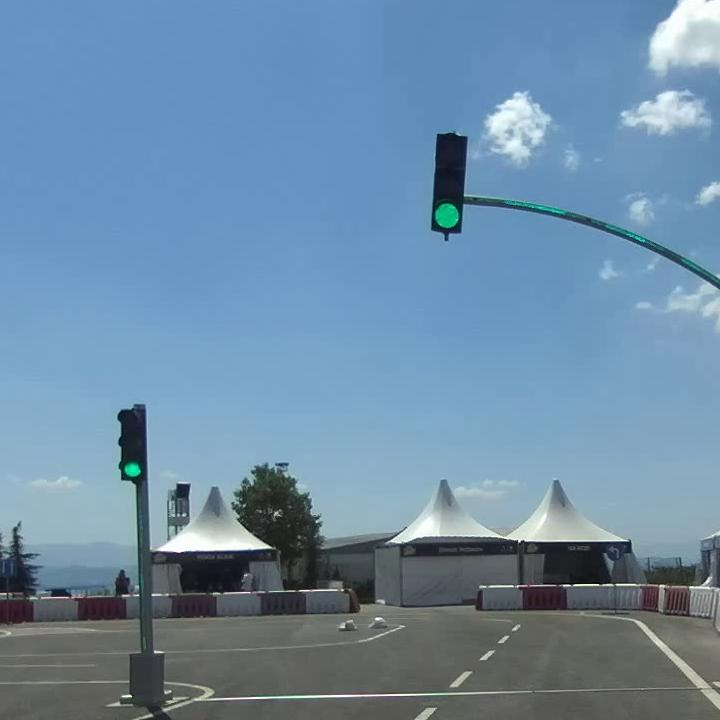green: (430, 131, 468, 238), (117, 404, 147, 483)
